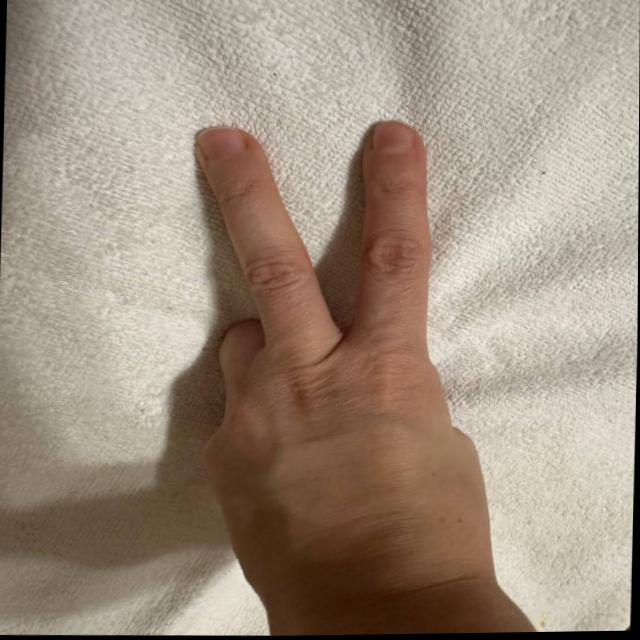l: (137, 92, 525, 573)
